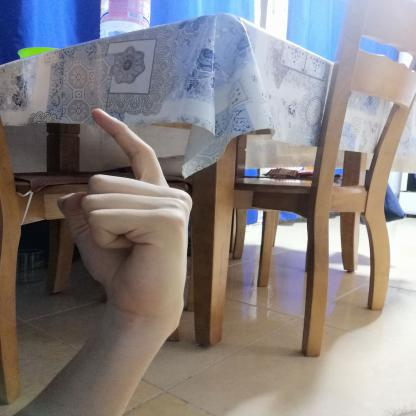RAA: (42, 98, 208, 326)
